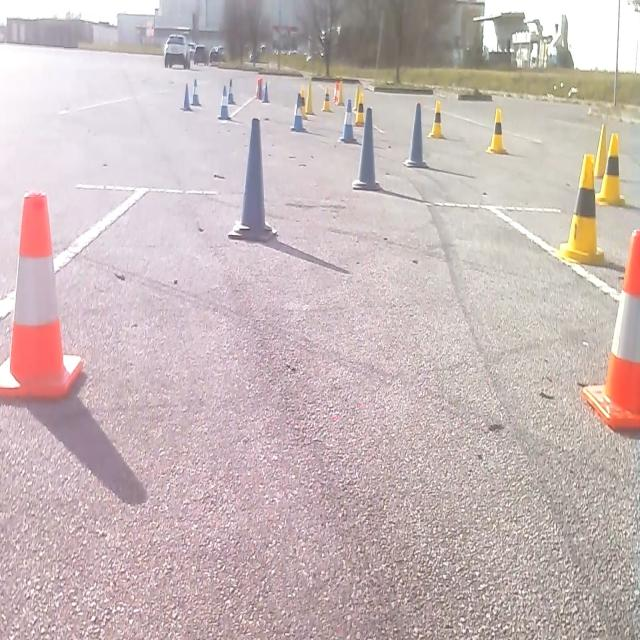blue_cone: (227, 115, 277, 242), (352, 105, 381, 191), (403, 100, 428, 168), (338, 97, 358, 144), (291, 92, 306, 132), (218, 83, 230, 119), (191, 77, 202, 106), (182, 80, 192, 110), (227, 80, 236, 106), (262, 82, 270, 104)
orange_cone: (0, 188, 84, 401), (580, 226, 639, 436), (255, 78, 263, 100), (333, 82, 340, 104)
yellow_cone: (558, 151, 605, 266), (595, 130, 625, 207), (486, 106, 507, 155), (593, 122, 608, 177), (427, 98, 445, 139), (353, 93, 366, 127), (304, 80, 315, 114), (297, 89, 308, 121), (322, 86, 332, 112), (336, 81, 344, 106), (353, 87, 361, 111)
